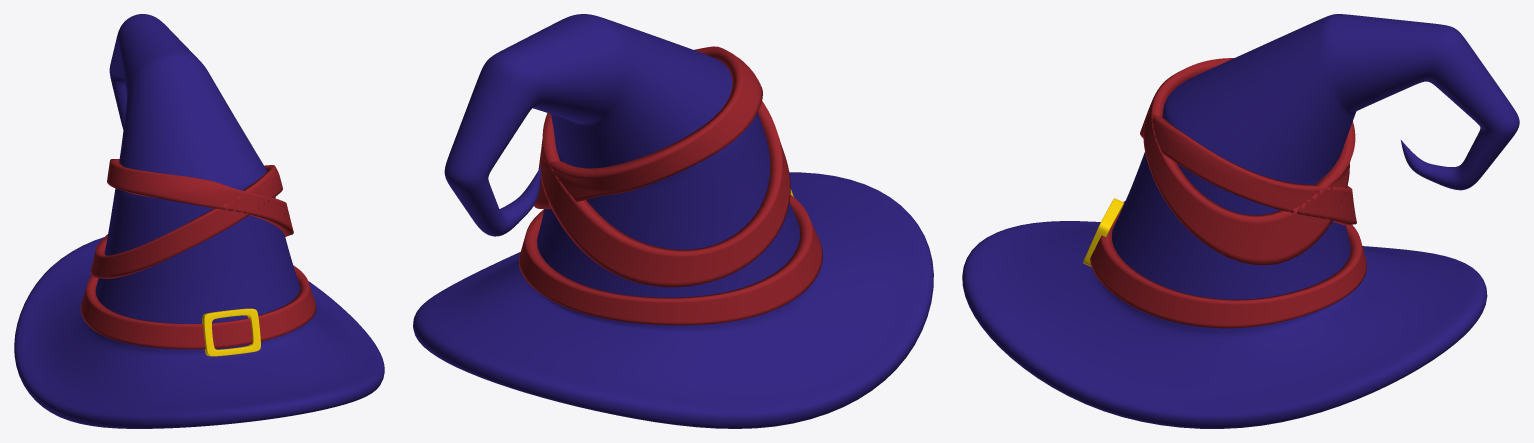
File: WizzardHat.fbx
3 views of the same model, side by side, from view 1: azimuth 30°, elevation 25°; view 2: azimuth 150°, elevation 25°; view 3: azimuth 270°, elevation 25° (orthographic). The views are drawn at different scales.
Parts seen in each view (by area): view 1: WizzardHat; view 2: WizzardHat; view 3: WizzardHat.
Boxes of the visible parts, left/top/right/bottom form: WizzardHat: left=14, top=14, right=384, bottom=428; WizzardHat: left=413, top=14, right=933, bottom=428; WizzardHat: left=962, top=14, right=1519, bottom=428.
Size of the model in its own units: 637 by 541 by 819.
